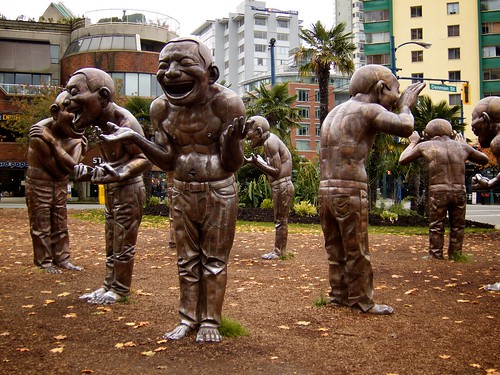person-like: (93, 34, 259, 346), (314, 62, 429, 317), (59, 65, 151, 308), (396, 116, 492, 264), (23, 89, 89, 277), (240, 113, 301, 262), (468, 93, 500, 194)
